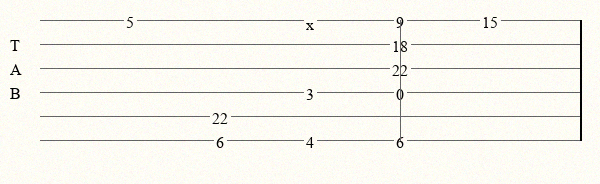0: (396, 85, 408, 100)
15: (482, 13, 502, 28)
18: (392, 37, 412, 52)
22: (212, 109, 232, 124), (392, 61, 412, 76)
3: (306, 85, 318, 100)
4: (306, 133, 318, 148)
5: (126, 13, 138, 28)
6: (216, 133, 228, 148), (396, 133, 408, 148)
9: (396, 13, 408, 28)
x: (306, 15, 318, 26)
